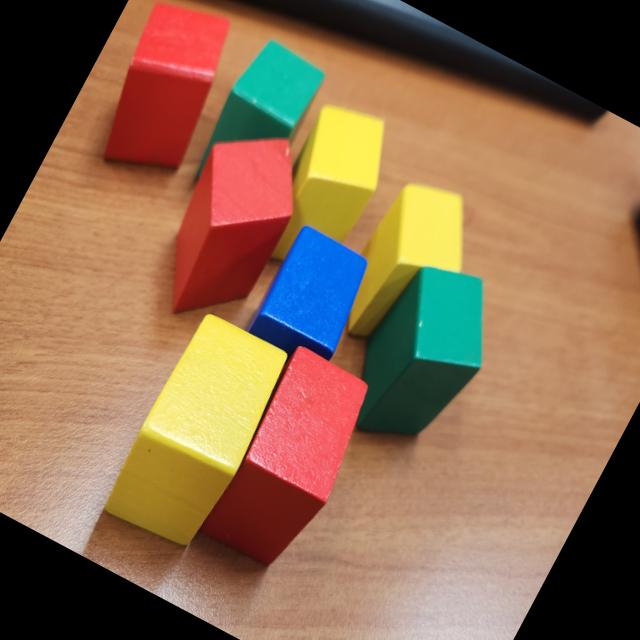blue: (242, 224, 380, 376)
green: (323, 243, 519, 472), (204, 31, 332, 175)
red: (195, 340, 386, 579), (135, 110, 323, 340), (77, 0, 252, 193)
yellow: (97, 308, 297, 559), (316, 162, 492, 372), (256, 87, 418, 261)
